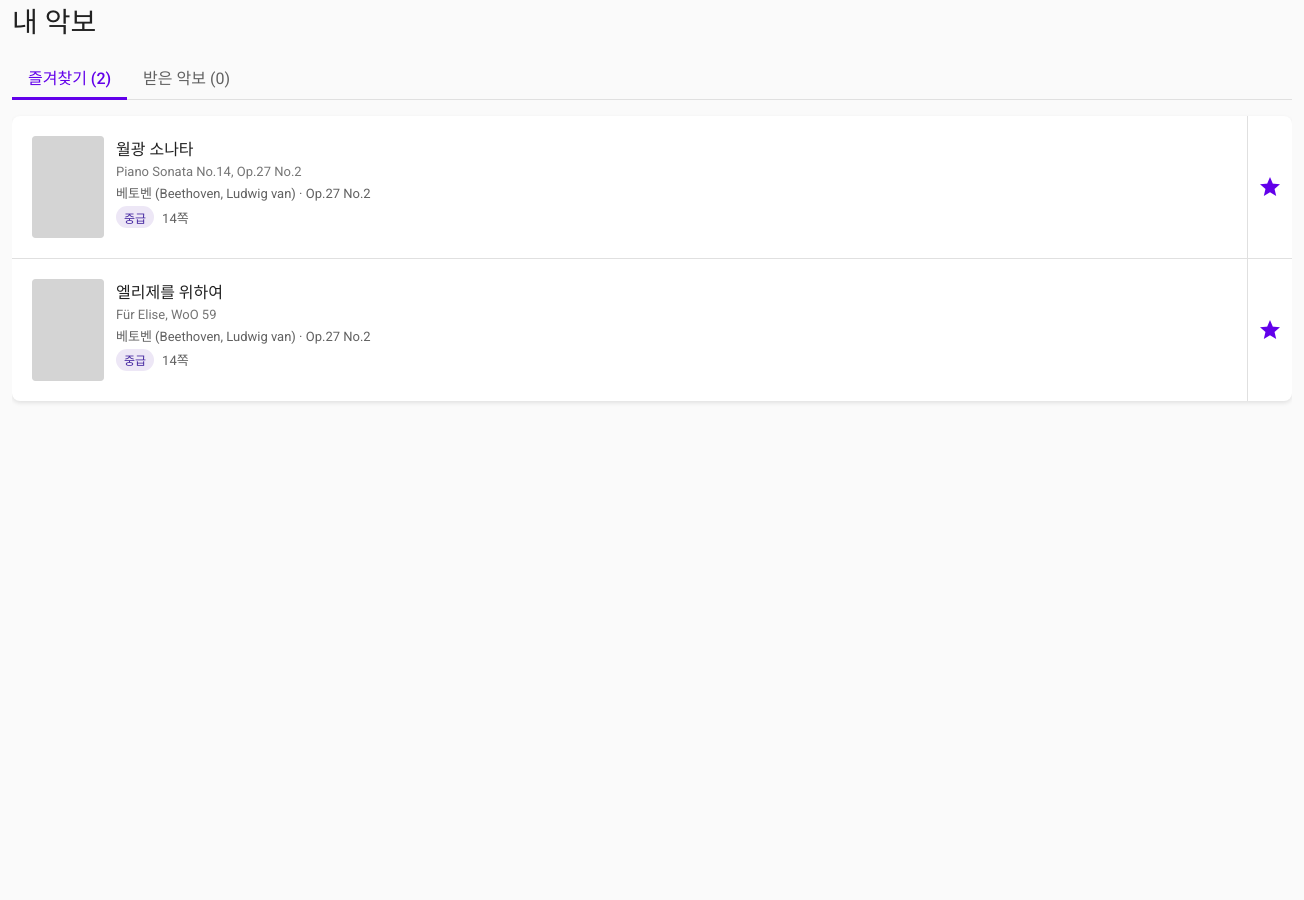
Test: 내 악보 — 즐겨찾기 해제 토스트 (00 §3-11 ②③) › 해제 성공은 되돌리기 변형이라 아이콘이 없다
This screenshot has width=1304, height=900.
Click the button named "즐겨찾기 해제" in the row of "Piano Sonata No.14, Op.27 No.2".
click(1270, 187)  # box [1248,165,1292,209]
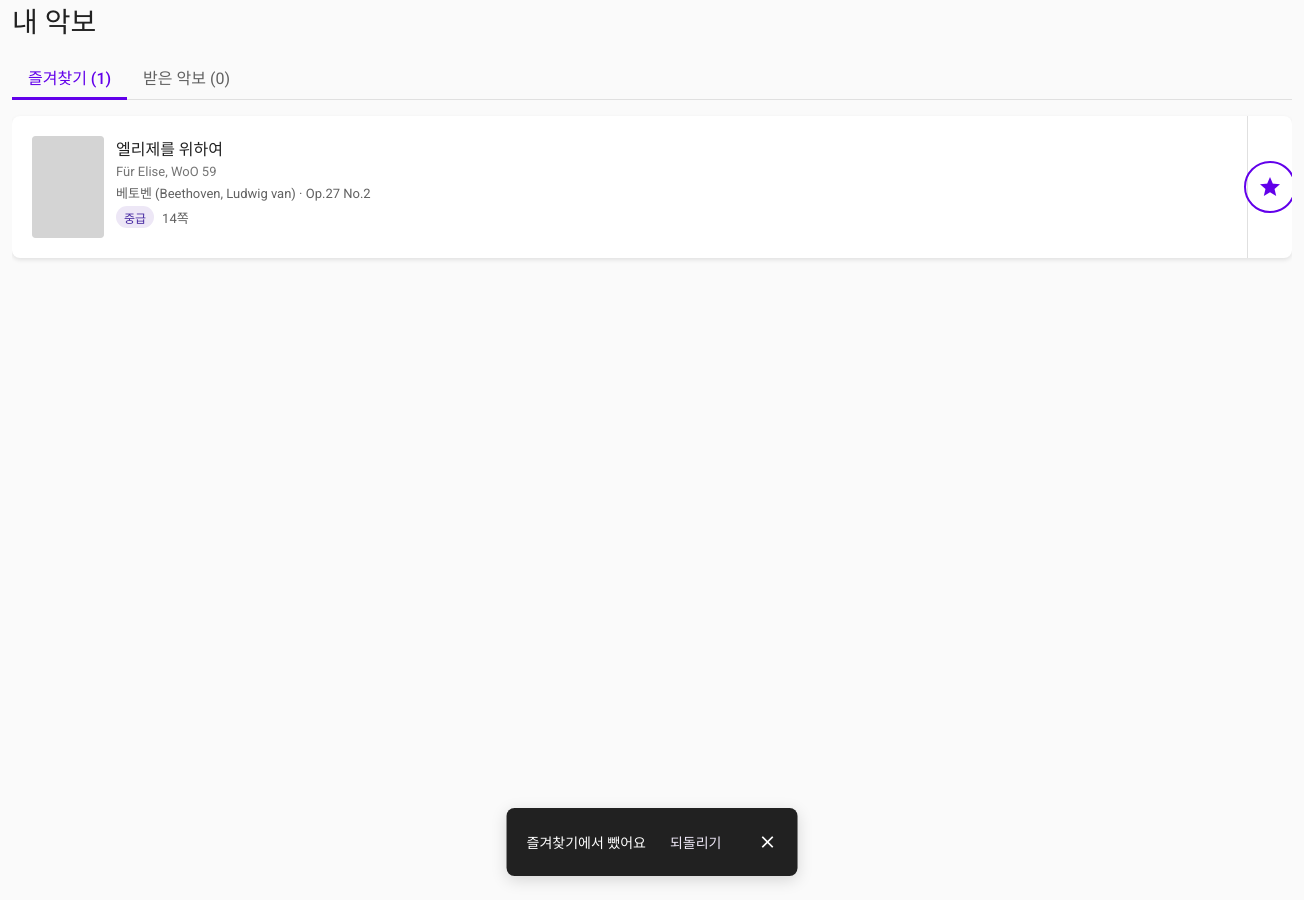
Now the text "즐겨찾기에서 뺐어요" is shown, box [526,832,646,852]
Now the button "되돌리기" is shown, box [658,820,733,864]
